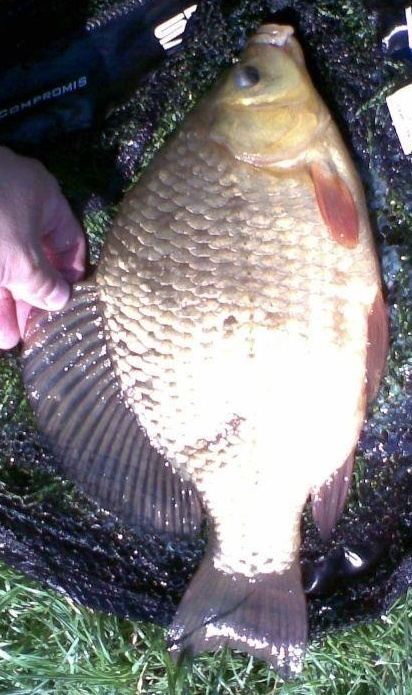Carassius carassius: (20, 20, 392, 675)
